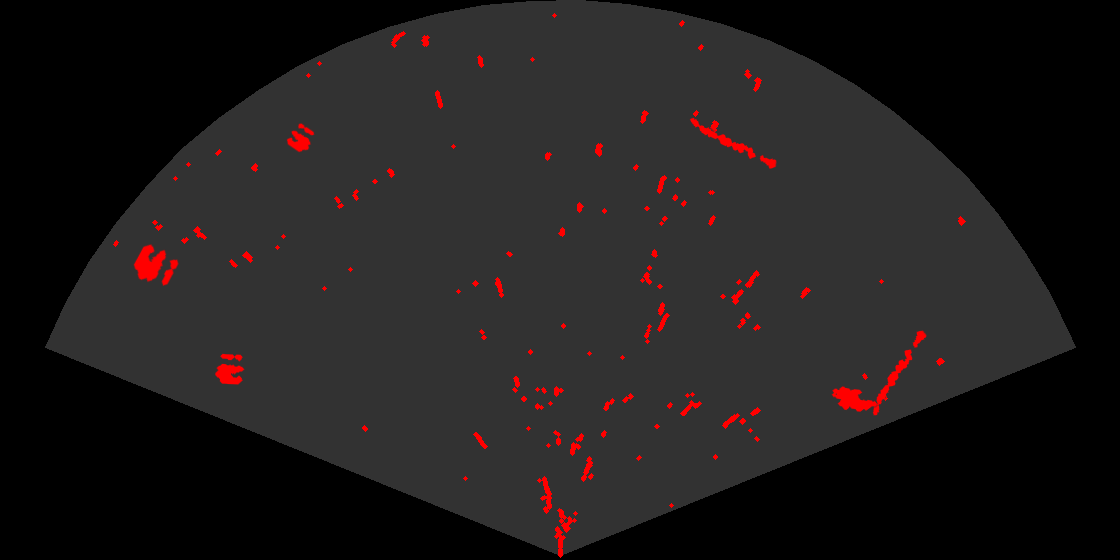AUV: (830, 385, 879, 413)
ball: (132, 243, 180, 288), (214, 352, 246, 386), (285, 121, 316, 154)
chain: (871, 329, 928, 417), (688, 116, 779, 170)
